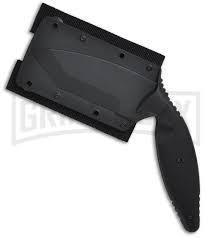Knife: (4, 2, 202, 233)
